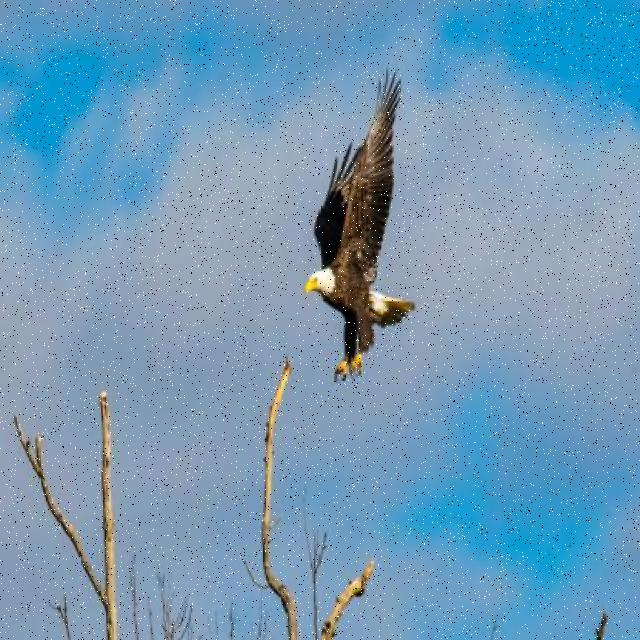bird: (306, 68, 416, 384)
